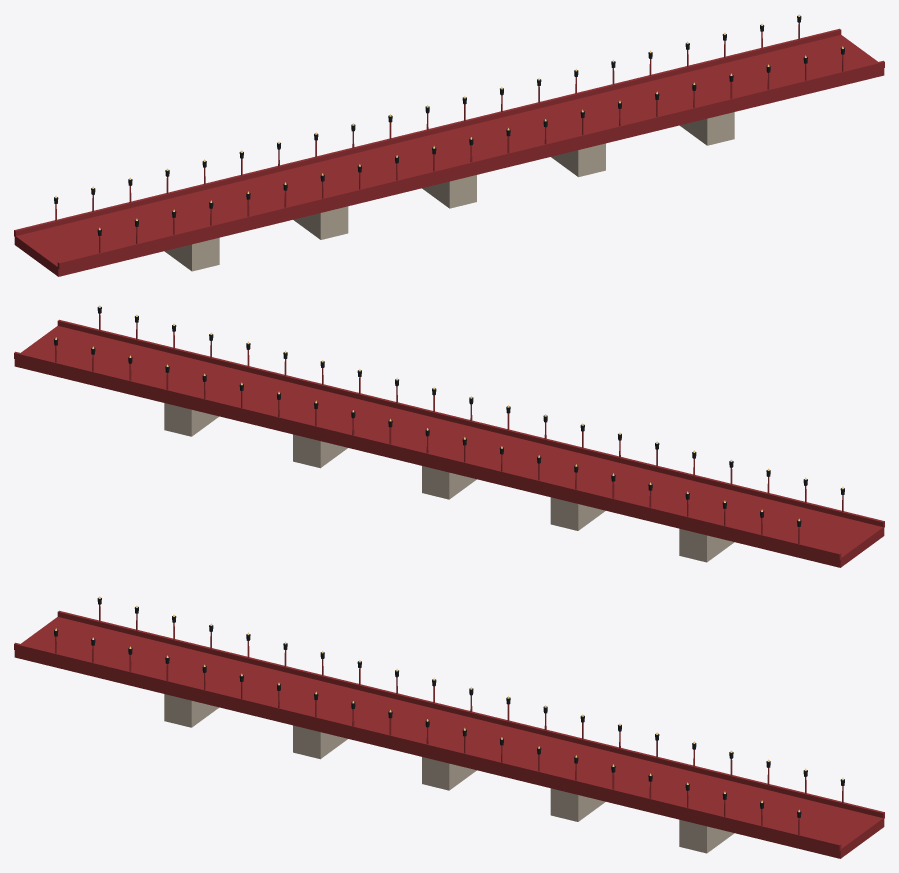
The model's file is lambethbr.glb.
The picture shows the model from 3 angles, top to bottom: view 1: azimuth 30°, elevation 25°; view 2: azimuth 150°, elevation 25°; view 3: azimuth 330°, elevation 25°; orthographic projection.
Parts seen in each view (by area): view 1: lambethbr; view 2: lambethbr; view 3: lambethbr.
Boxes of the visible parts, x1,y1,x2,y2 form: lambethbr: [14, 14, 884, 276]; lambethbr: [14, 305, 884, 567]; lambethbr: [14, 596, 884, 858].
Size of the model in its own units: 2.16 by 0.186 by 0.2078.
